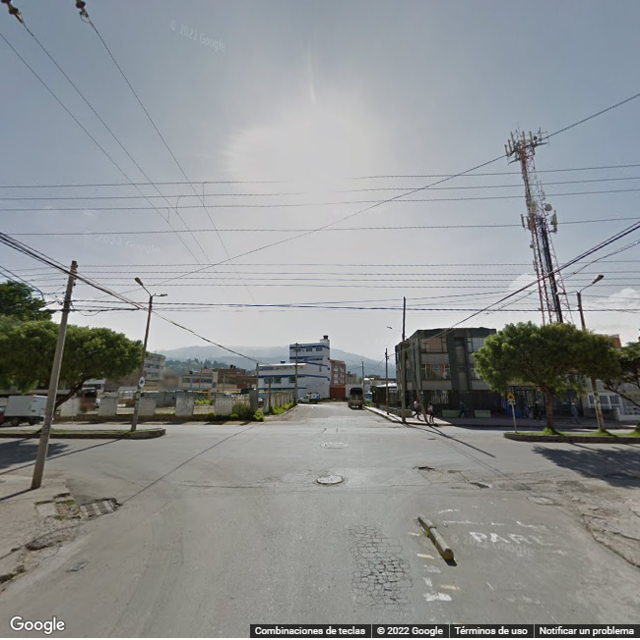D20: (348, 525, 411, 597)
